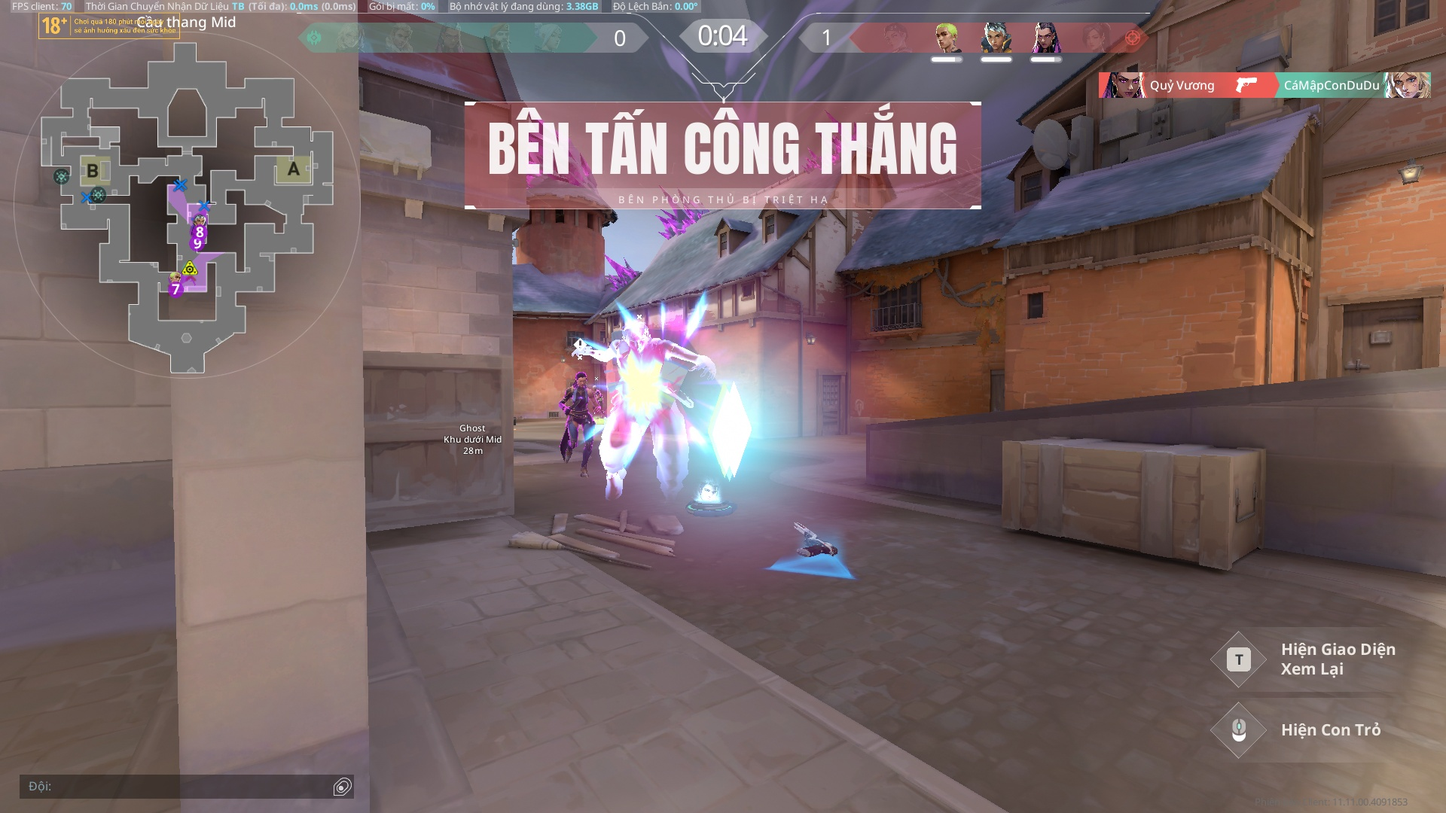body: (569, 383, 592, 413)
head: (573, 373, 589, 388)
